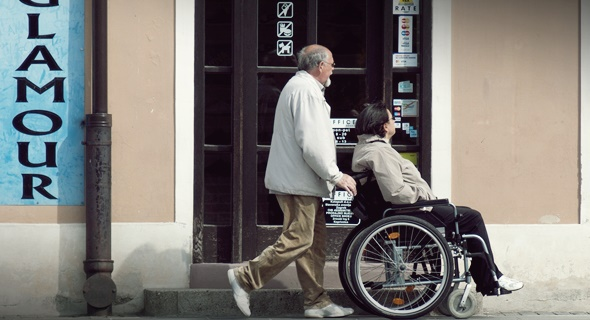wheelchair: (343, 104, 523, 318)
